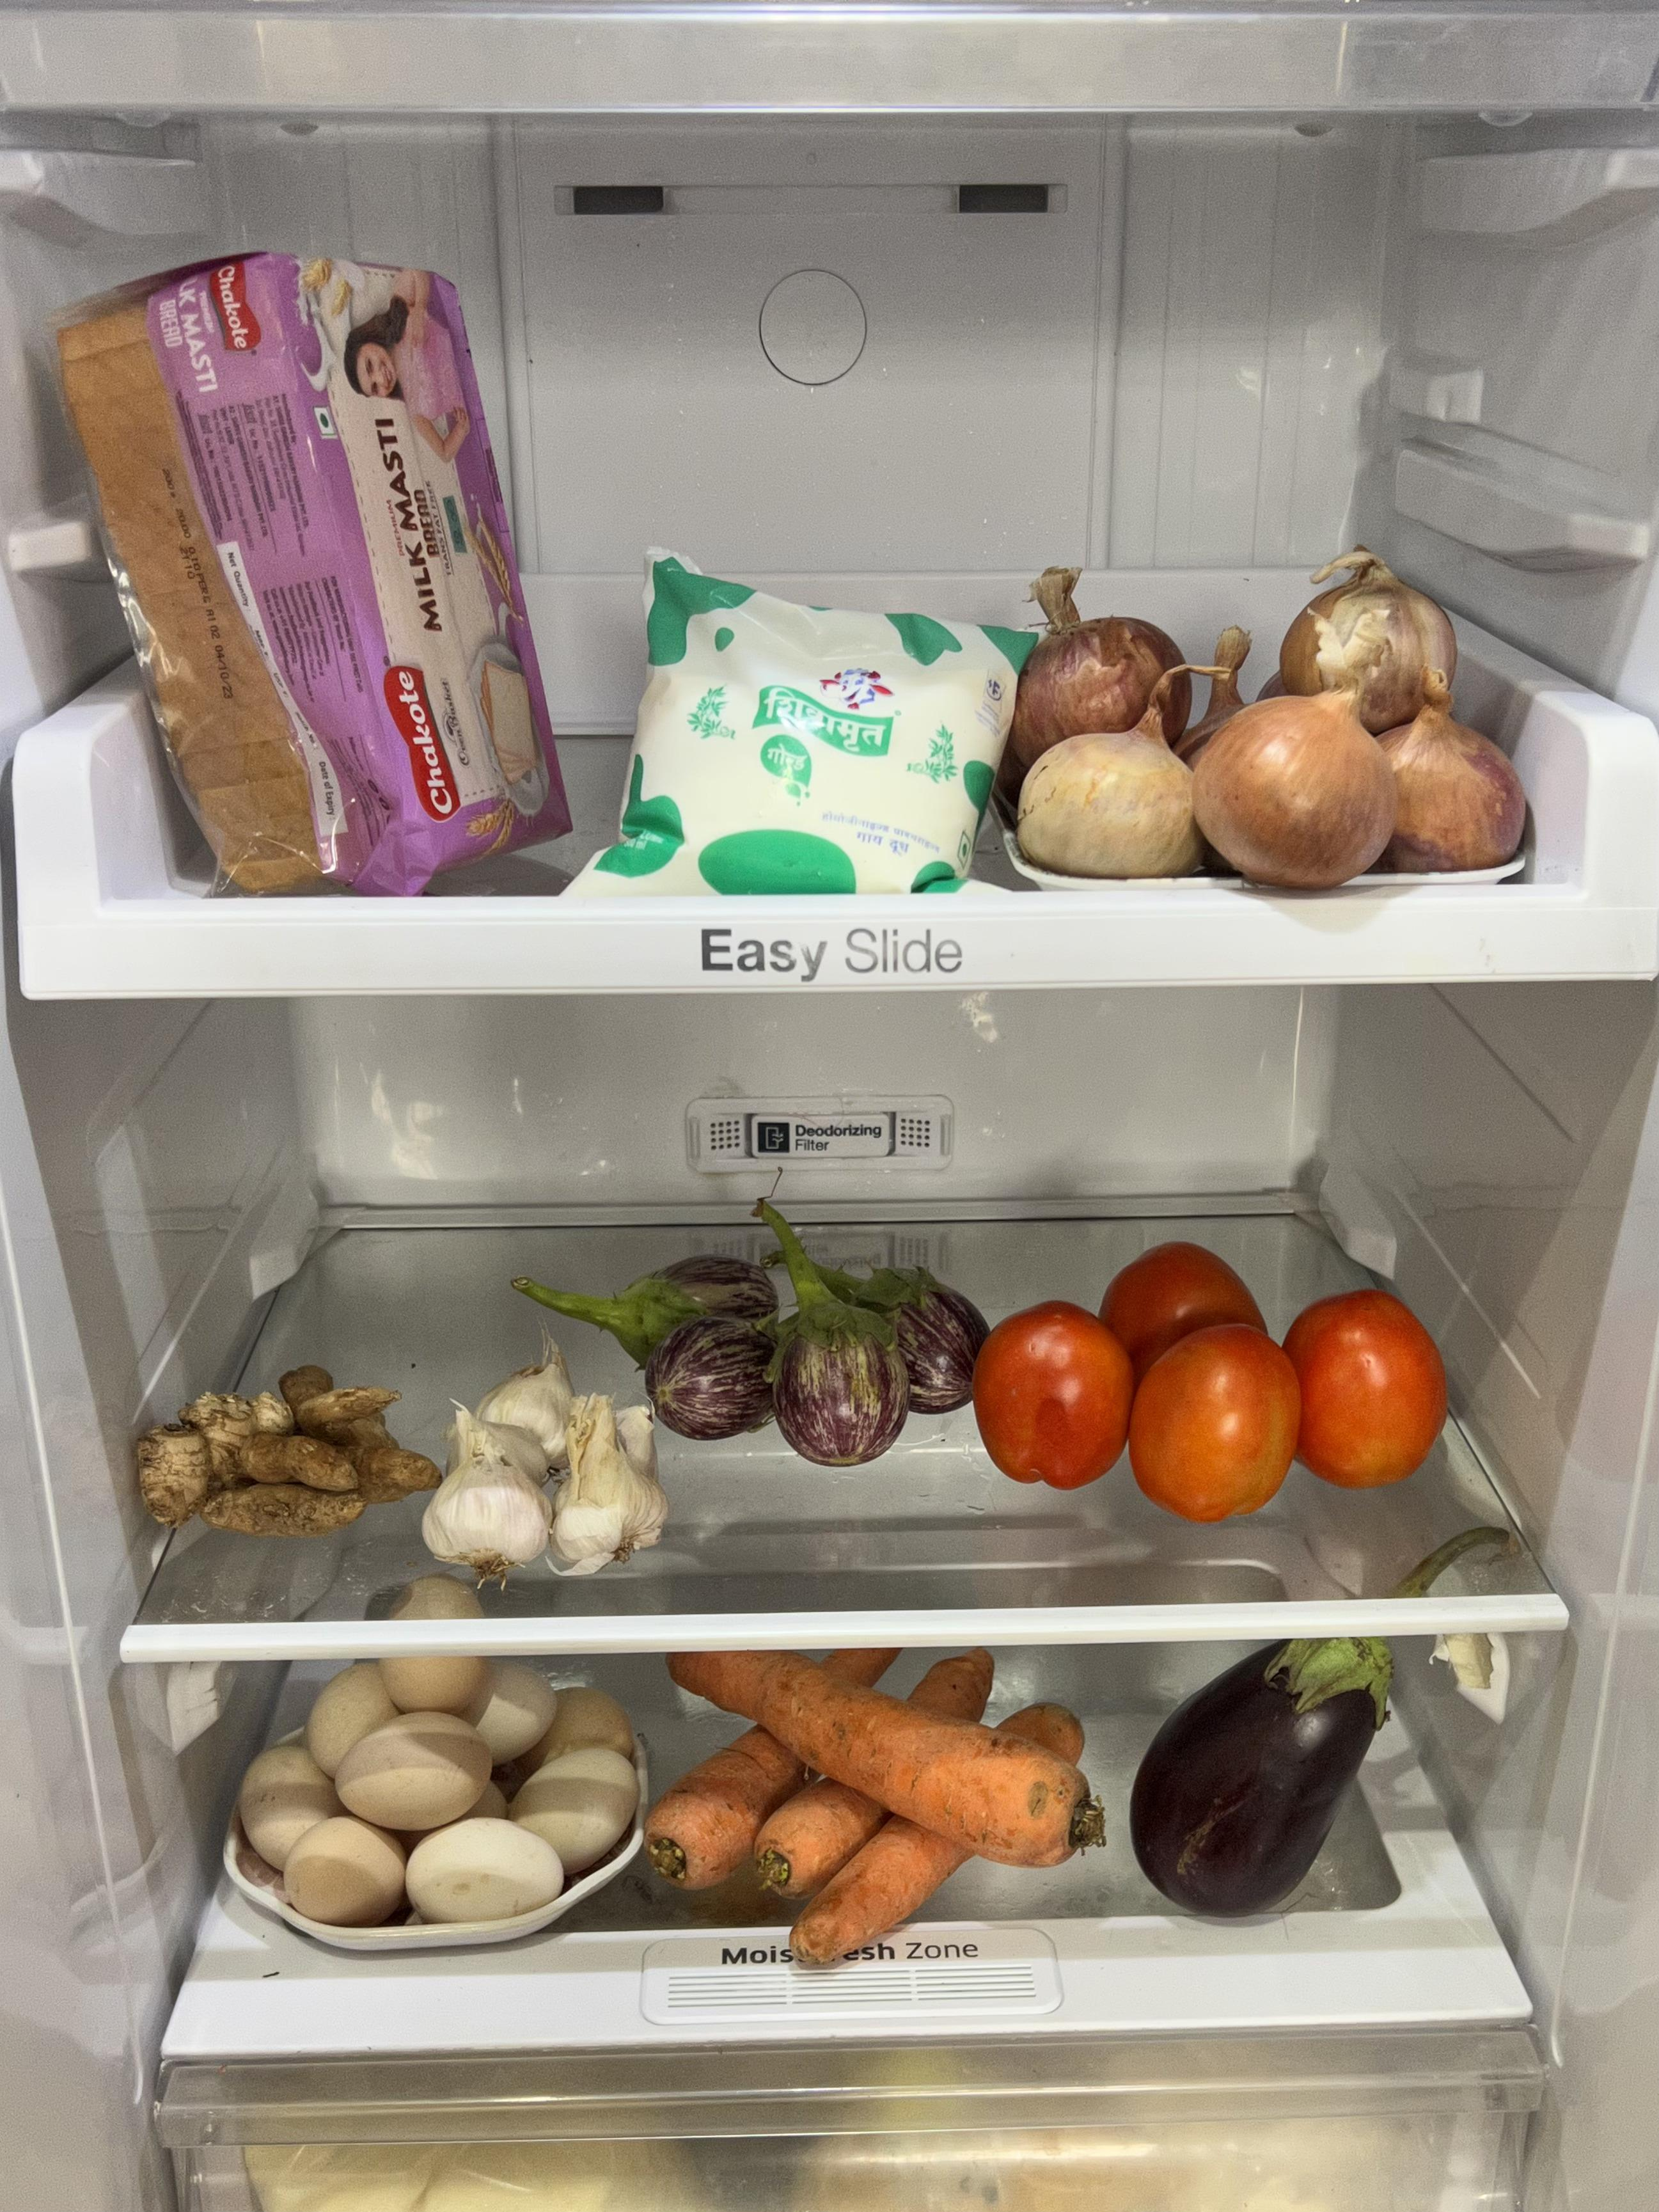bread: (47, 251, 568, 899)
bringal: (610, 1203, 981, 1469), (1127, 1633, 1420, 1930)
carrots: (647, 1652, 1121, 1963)
egg: (232, 1663, 647, 1935)
garlic: (416, 1358, 666, 1583)
ginger: (125, 1361, 423, 1537)
milk: (580, 553, 1002, 913)
onion: (1018, 558, 1535, 887)
tomato: (976, 1243, 1460, 1523)
